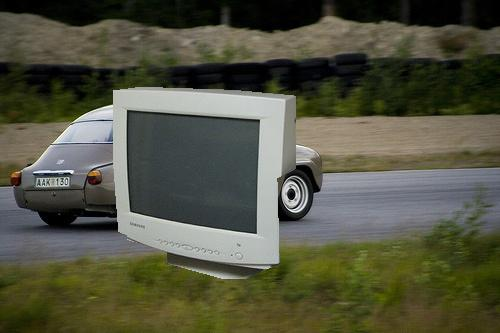tampered: (114, 88, 296, 279)
